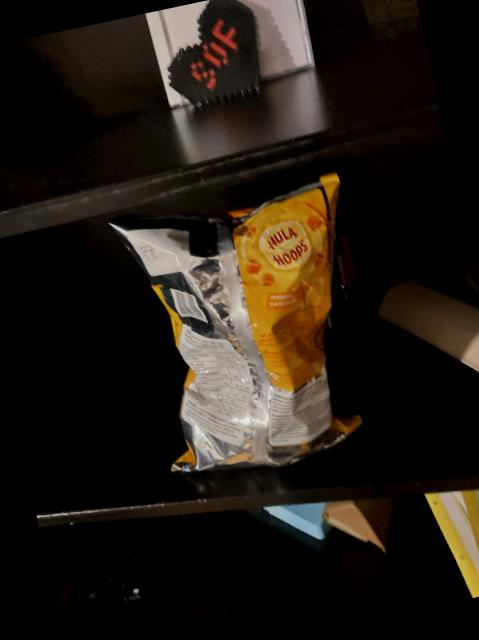Chio Hula Hoops Cheese 70g: (110, 170, 395, 485)
